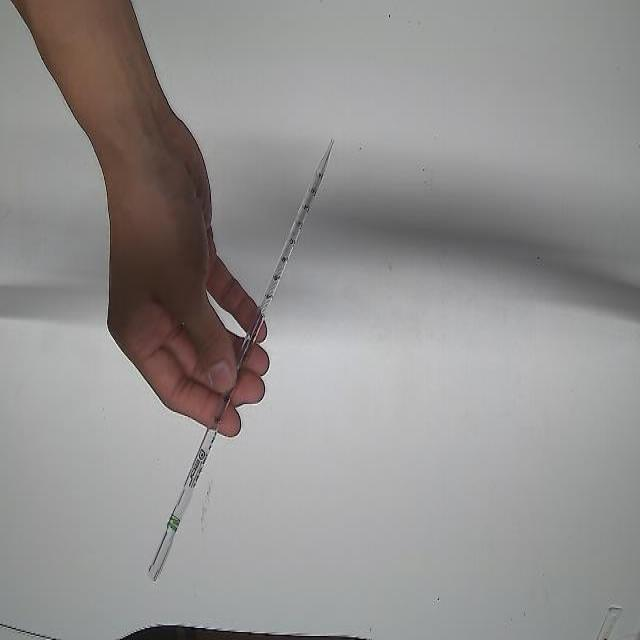Serelogical Pipet 2 mL: (146, 136, 334, 586)
